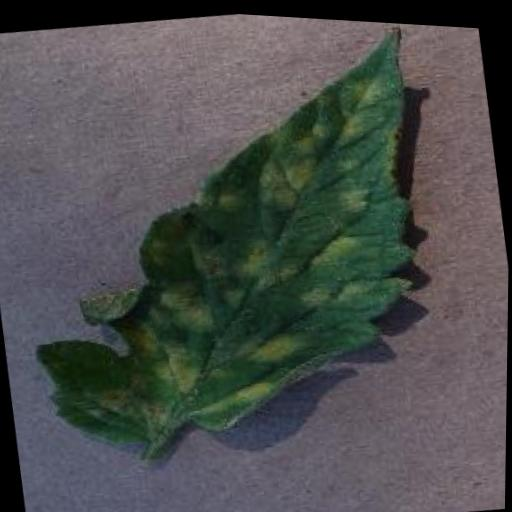Leaf Mold: (0, 0, 456, 463)
